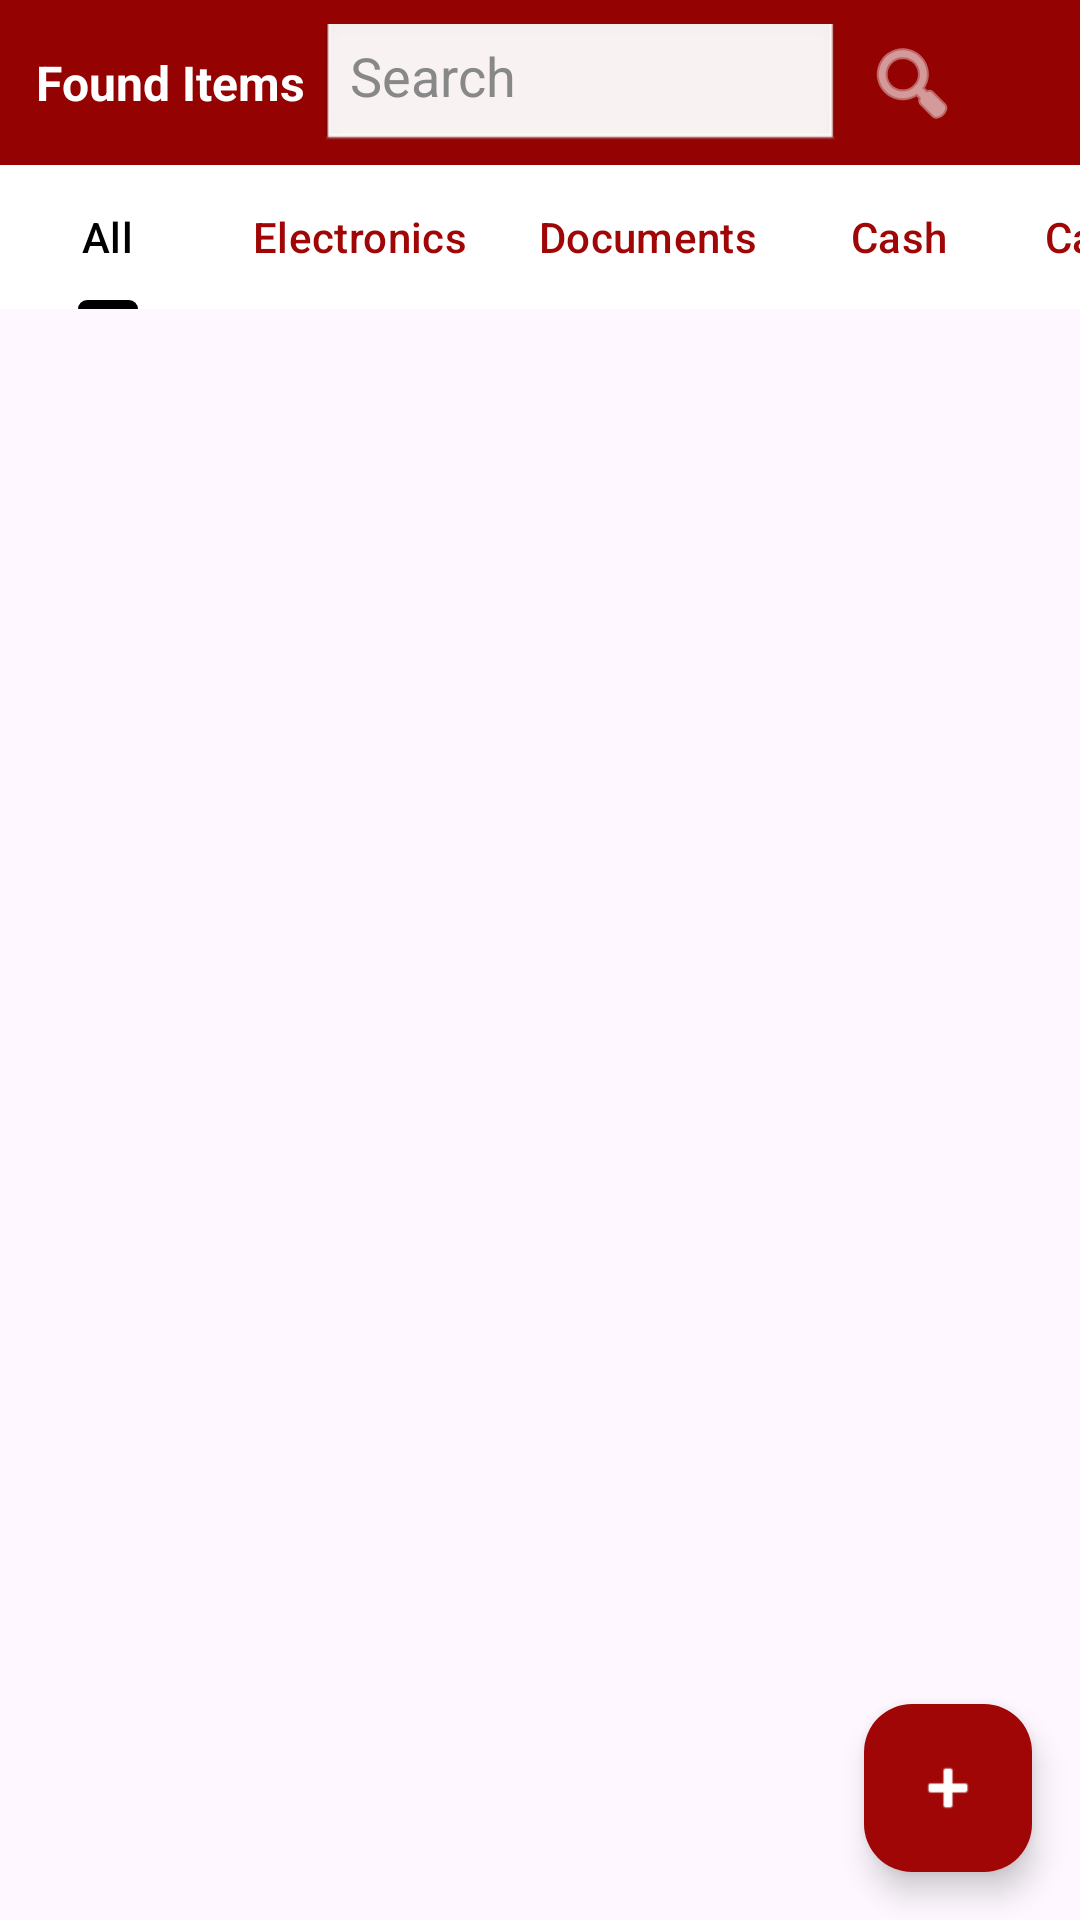

Icons on this 1080 x 1920 Android screen, each with the point to tap as (x,y):
Add new found item: (948,1788)
